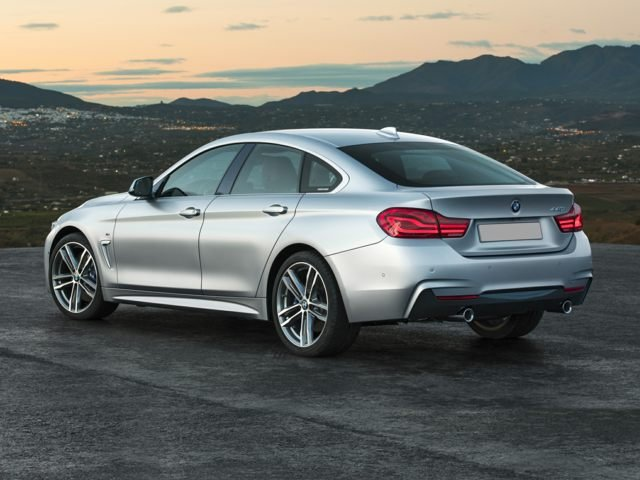bmw: (38, 121, 598, 358)
